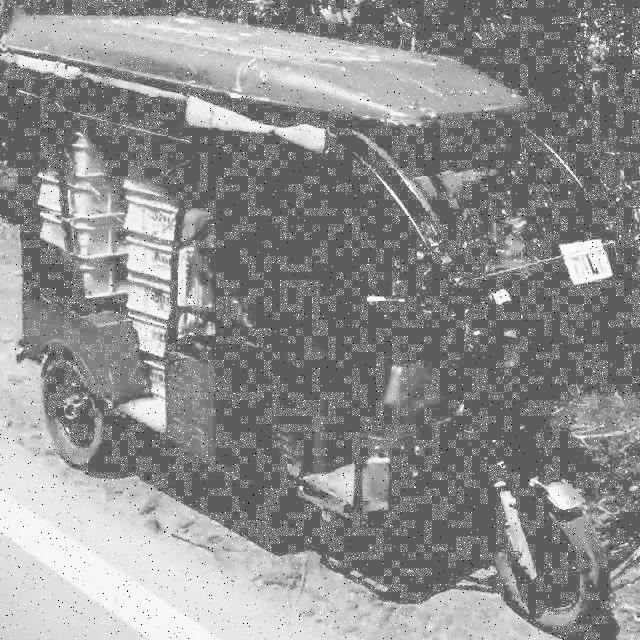Toto: (18, 24, 597, 633)
